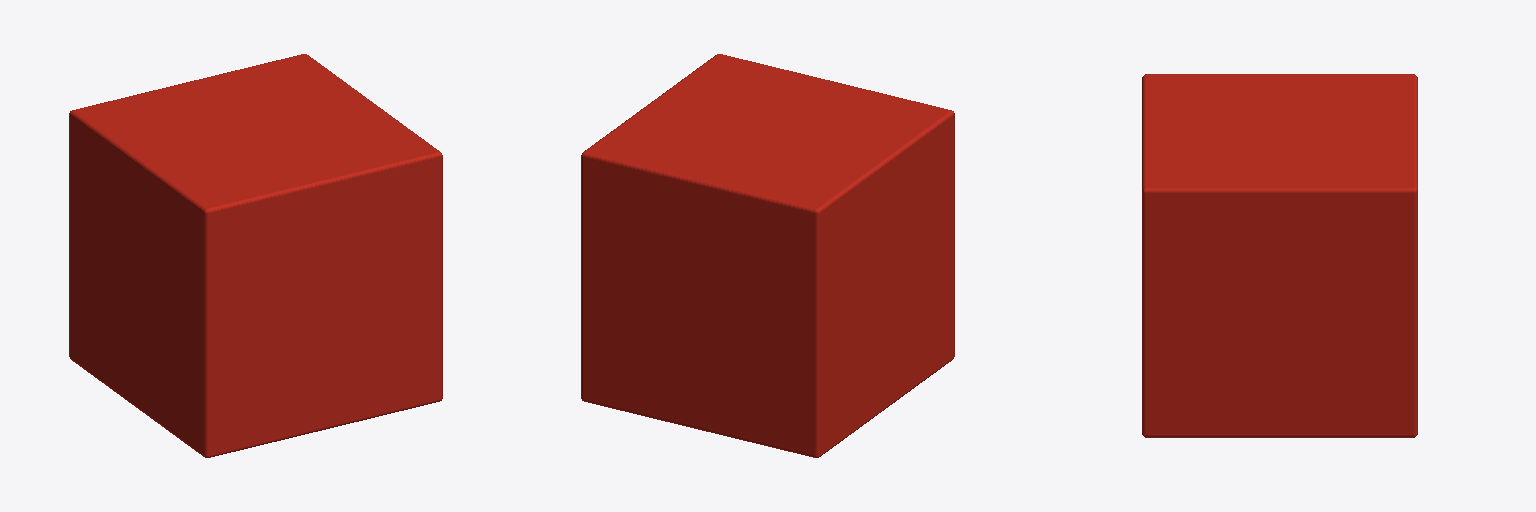
The picture shows the model from 3 angles: view 1: azimuth 30°, elevation 25°; view 2: azimuth 150°, elevation 25°; view 3: azimuth 270°, elevation 25°; orthographic projection.
Parts seen in each view (by area): view 1: Body1; view 2: Body1; view 3: Body1.
Part boxes in pixels (left/top/right/bottom): Body1: left=69, top=54, right=442, bottom=457; Body1: left=581, top=54, right=954, bottom=457; Body1: left=1142, top=74, right=1417, bottom=437.
Size of the model in its own units: 7 by 7 by 7.